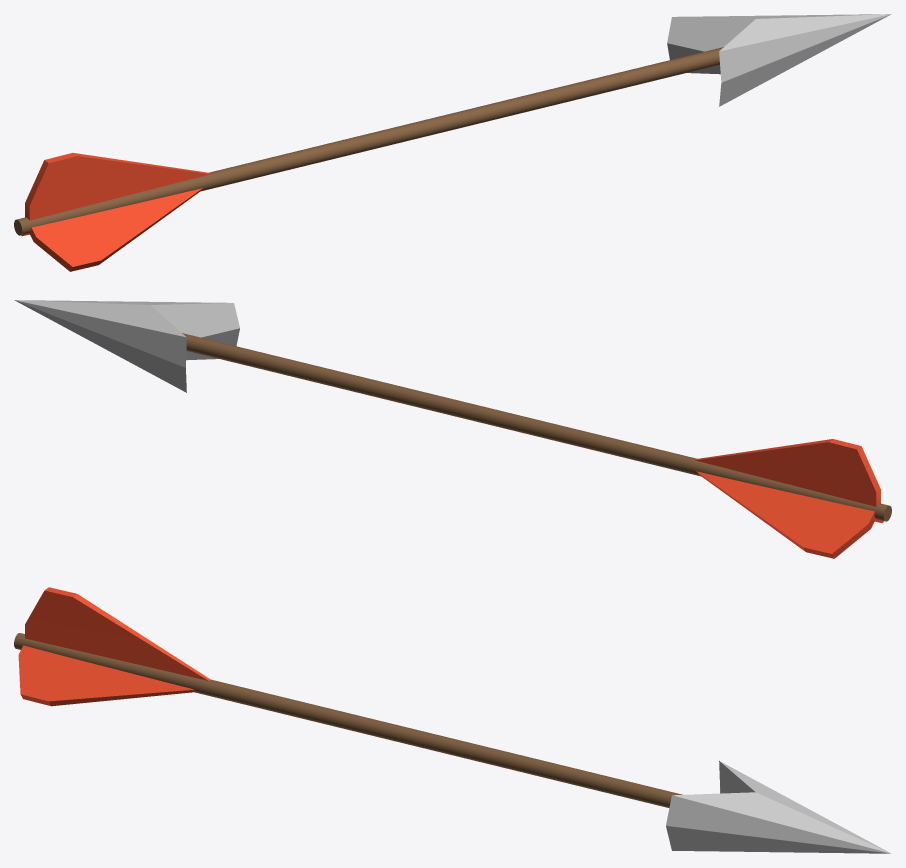
File: NewArrow.fbx
The picture shows the model from 3 angles, top to bottom: view 1: azimuth 30°, elevation 25°; view 2: azimuth 150°, elevation 25°; view 3: azimuth 330°, elevation 25°; orthographic projection.
Parts seen in each view (by area): view 1: NewArrow; view 2: NewArrow; view 3: NewArrow.
Part boxes in pixels (x1,y1,x2,y2): NewArrow: [14, 14, 891, 271]; NewArrow: [14, 300, 891, 558]; NewArrow: [14, 587, 890, 853].
Size of the model in its own units: 42.79 by 4.37 by 4.69.
